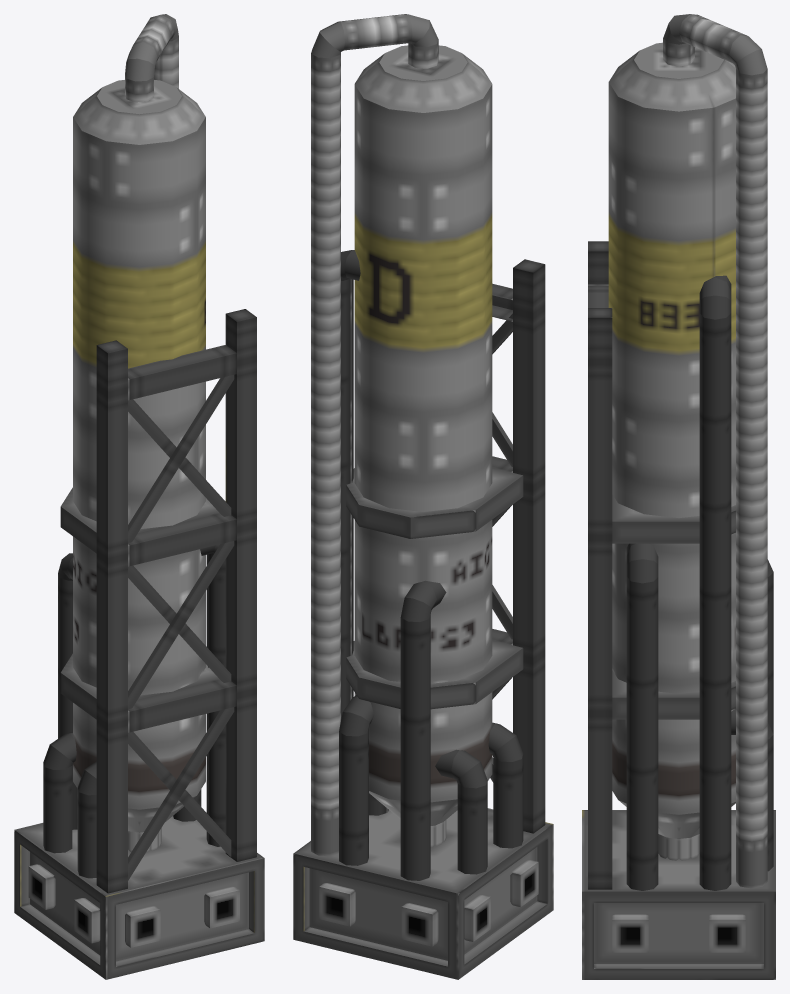
The model's file is machine_deuterium_tower.obj.
3 views of the same model, side by side, from view 1: azimuth 30°, elevation 25°; view 2: azimuth 150°, elevation 25°; view 3: azimuth 270°, elevation 25° (orthographic). The views are drawn at different scales.
Parts seen in each view (by area): view 1: Cube.007_Cube.009; view 2: Cube.007_Cube.009; view 3: Cube.007_Cube.009.
Boxes of the visible parts, left/top/right/bottom form: Cube.007_Cube.009: left=14, top=14, right=264, bottom=979; Cube.007_Cube.009: left=293, top=14, right=553, bottom=979; Cube.007_Cube.009: left=582, top=14, right=775, bottom=979.
Bounding box in the file's own units: 2 × 10.58 × 2.
